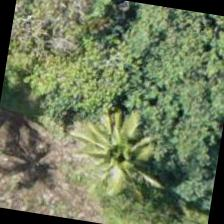Kelapa_Sawit: (83, 102, 186, 206)
